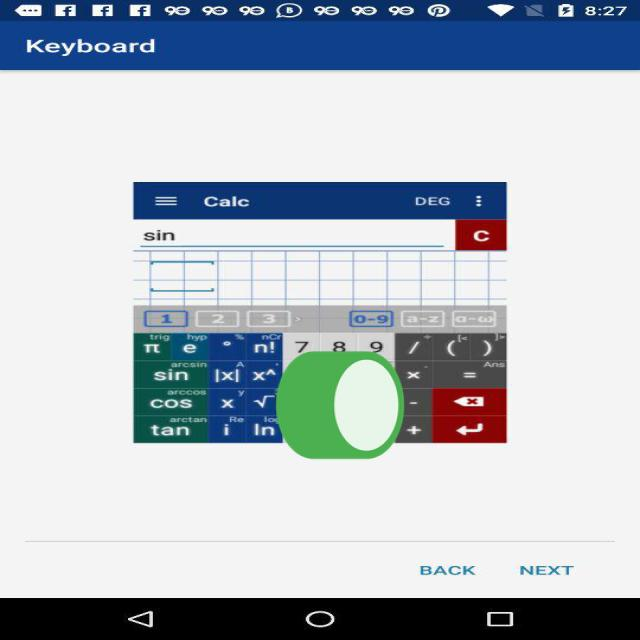social proof: (270, 310, 410, 509)
